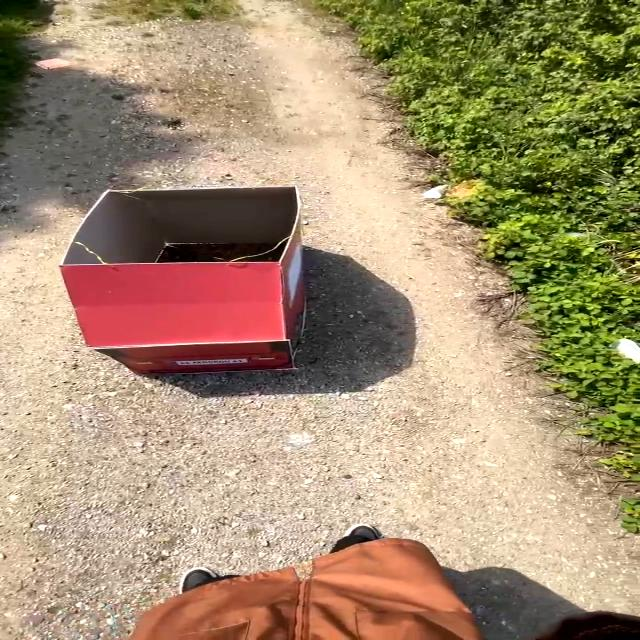red_car: (0, 174, 340, 388)
